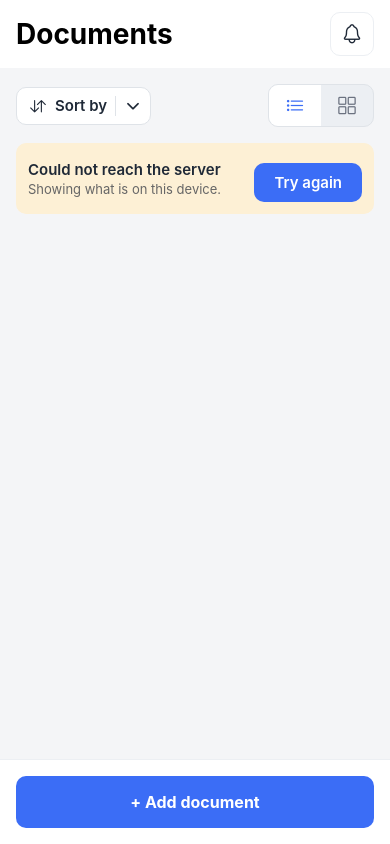
Scenario: DocumentListScreen partial readings › drops the warning once the server answers again
Expected: the text "Could not reach the server" is shown, 28,160 -> 221,179
Click the button labelled "Try again" at (308, 182), box 254,163 -> 362,202
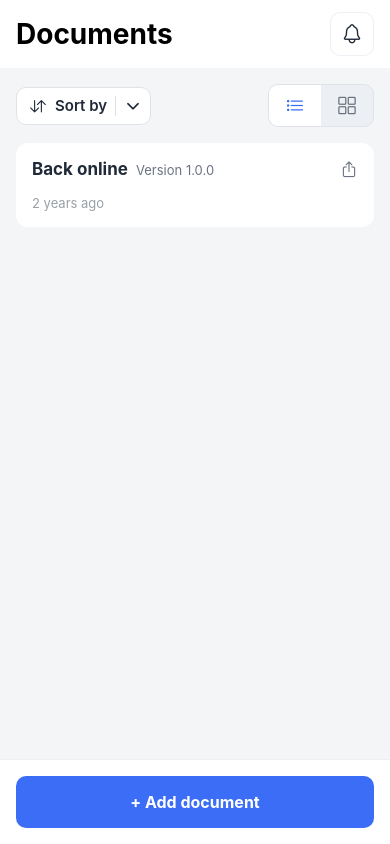
Result: the text "Back online" is shown at 32,159 -> 128,179
Result: the text "Could not reach the server" is gone
